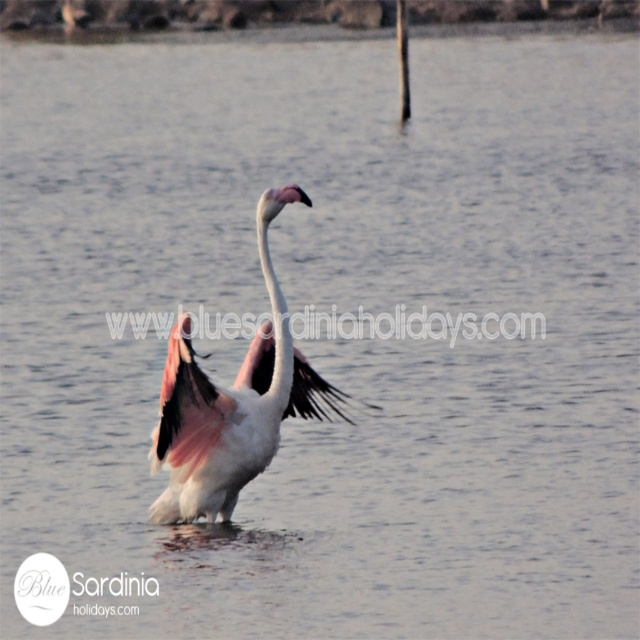Swan: (147, 182, 385, 524)
